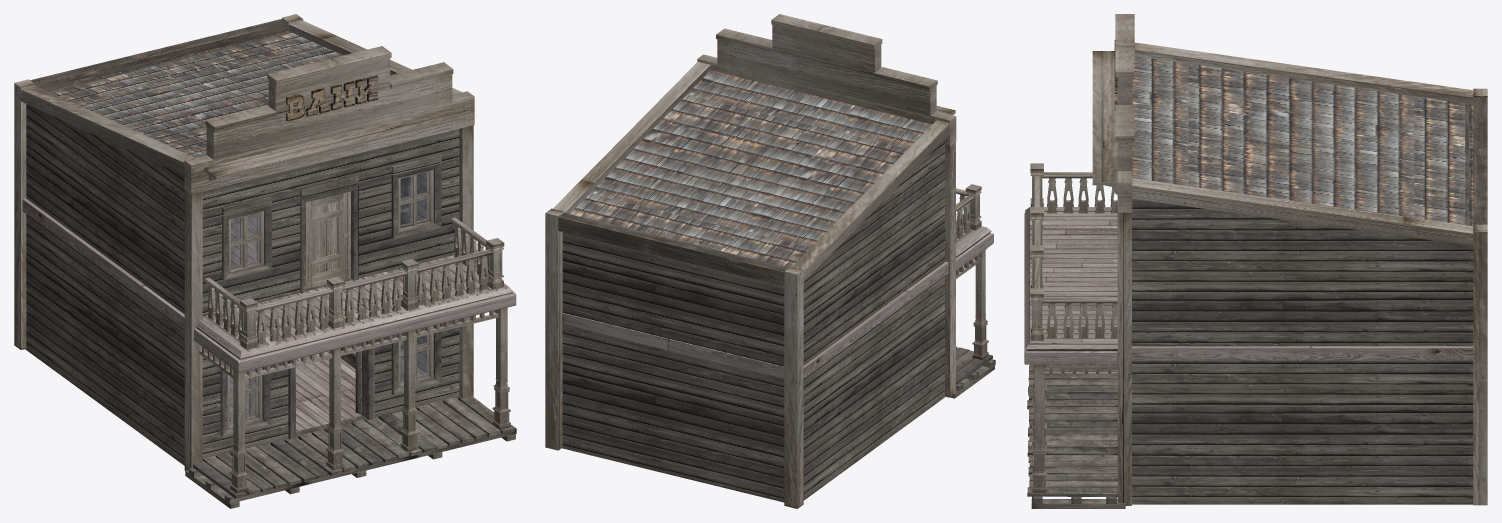
3 renders of one model, left to right at view 1: azimuth 30°, elevation 25°; view 2: azimuth 150°, elevation 25°; view 3: azimuth 270°, elevation 25°, orthographic. The views are drawn at different scales.
Parts seen in each view (by area): view 1: interior_exterior_0, board_signpost_25, balcony_32, parapet.002_44, gasket_24, loft_45, door_2_59, gasket.002_29, gasket.004_31, floor_34, gasket.003_27, gasket.001_26 (+36 smaller); view 2: interior_exterior_0, board_signpost_25, floor_34, gasket.003_27, gasket.004_31, gasket.006_28, gasket.002_29, gasket.005_30, gasket_24, pillar_33, balcony_32, parapet_42 (+1 smaller); view 3: interior_exterior_0, balcony_32, gasket.005_30, floor_34, gasket.002_29, gasket.001_26, gasket.006_28, board_signpost_25, loft_45, parapet.001_43, gasket.004_31, parapet_42 (+21 smaller).
Part boxes in pixels (bbox=[...]): interior_exterior_0: bbox=[25, 31, 459, 465]; board_signpost_25: bbox=[184, 46, 474, 193]; balcony_32: bbox=[194, 255, 516, 372]; parapet.002_44: bbox=[256, 249, 492, 344]; gasket_24: bbox=[184, 189, 202, 470]; loft_45: bbox=[204, 105, 473, 180]; door_2_59: bbox=[306, 191, 350, 288]; gasket.002_29: bbox=[21, 86, 194, 175]; gasket.004_31: bbox=[30, 19, 288, 90]; floor_34: bbox=[22, 198, 256, 329]; gasket.003_27: bbox=[14, 79, 35, 349]; gasket.001_26: bbox=[459, 125, 473, 398]; interior_exterior_0: bbox=[562, 70, 945, 502]; board_signpost_25: bbox=[697, 14, 956, 146]; floor_34: bbox=[562, 261, 948, 378]; gasket.003_27: bbox=[784, 267, 803, 508]; gasket.004_31: bbox=[558, 213, 788, 285]; gasket.006_28: bbox=[545, 208, 564, 450]; gasket.002_29: bbox=[792, 120, 949, 281]; gasket.005_30: bbox=[553, 62, 710, 213]; gasket_24: bbox=[945, 142, 955, 397]; pillar_33: bbox=[972, 248, 988, 360]; balcony_32: bbox=[956, 220, 993, 270]; parapet_42: bbox=[956, 195, 973, 240]; interior_exterior_0: bbox=[1132, 56, 1473, 504]; balcony_32: bbox=[1024, 207, 1117, 364]; gasket.005_30: bbox=[1132, 178, 1473, 246]; floor_34: bbox=[1132, 346, 1473, 360]; gasket.002_29: bbox=[1134, 42, 1473, 104]; gasket.001_26: bbox=[1117, 212, 1131, 505]; gasket.006_28: bbox=[1473, 224, 1487, 505]; board_signpost_25: bbox=[1115, 14, 1134, 212]; loft_45: bbox=[1092, 51, 1117, 194]; parapet.001_43: bbox=[1042, 297, 1117, 338]; gasket.004_31: bbox=[1473, 97, 1487, 224]; parapet_42: bbox=[1042, 172, 1117, 213].
Bounding box in the file's own units: 7.22 × 9.07 × 9.68.
9 materials, 8 textured.
